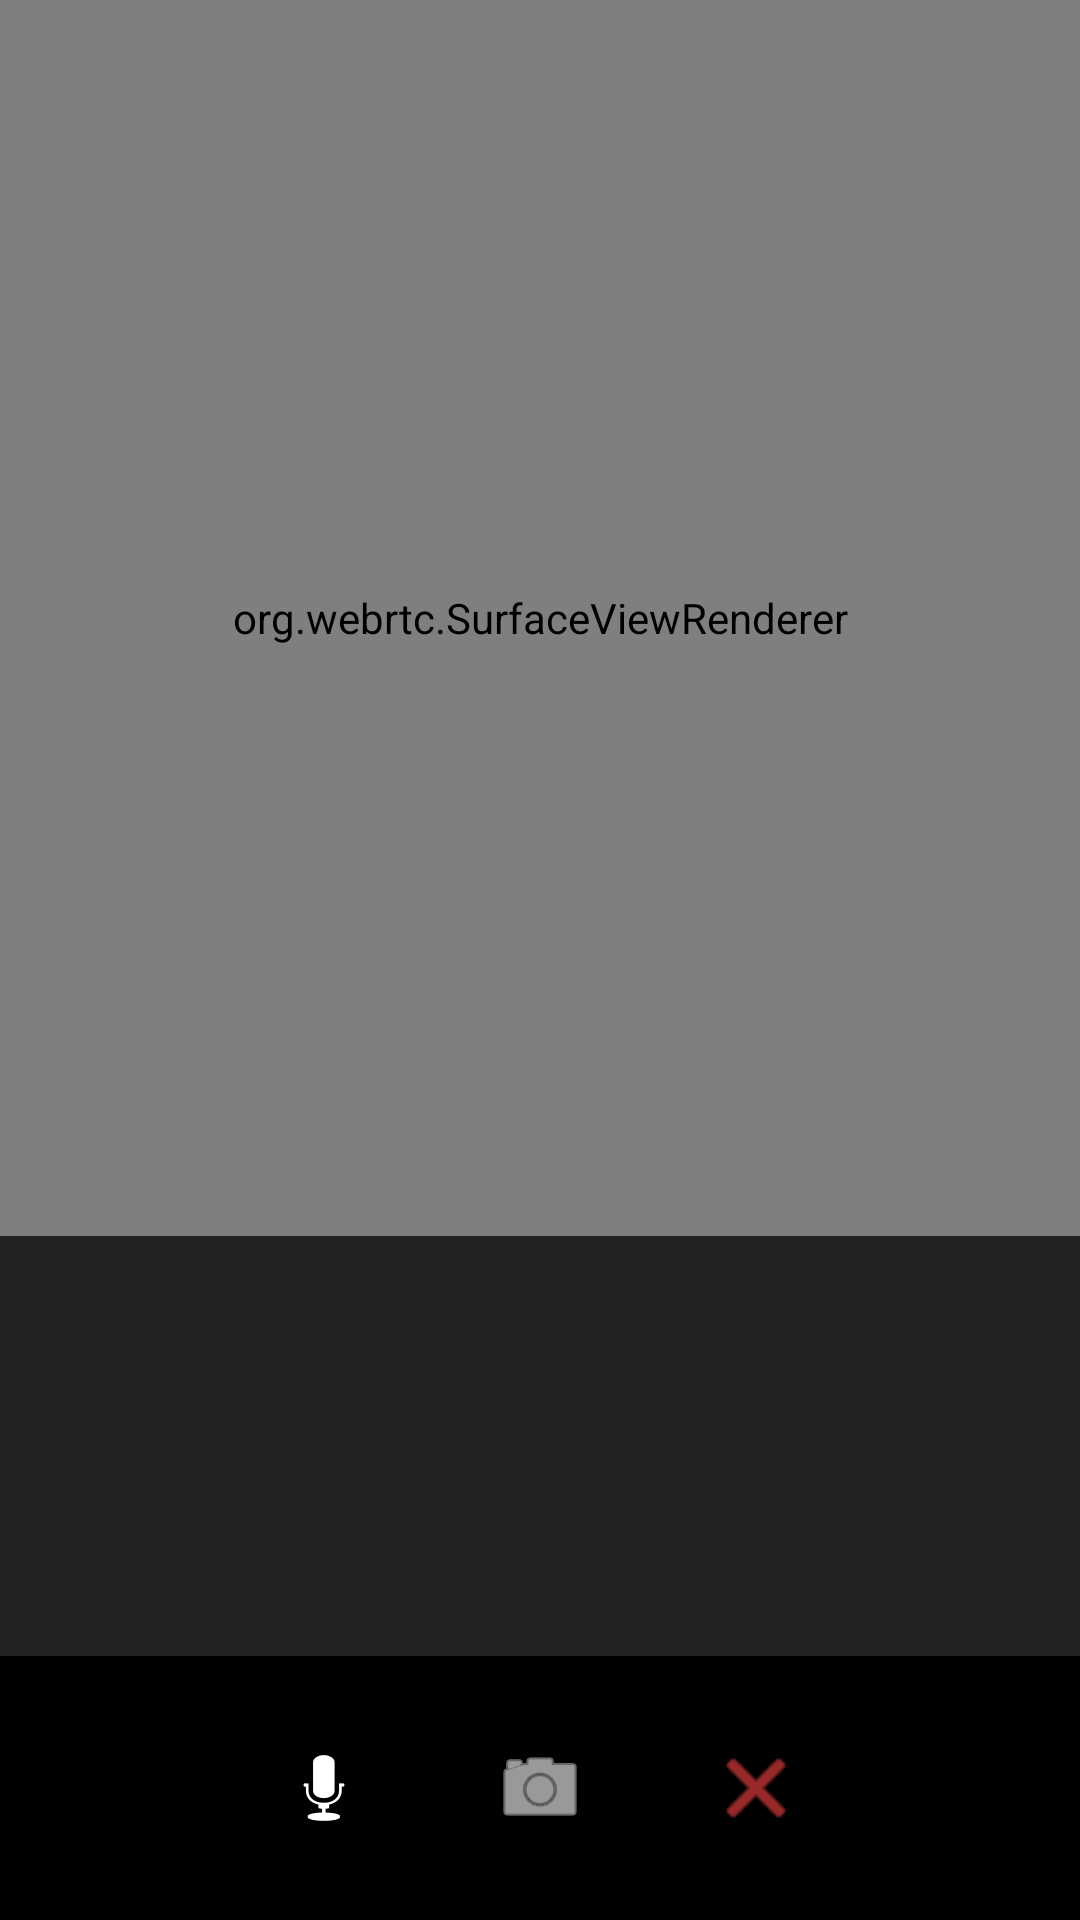

Screen size 1080w x 1920h. Icon name, then its center in pixels as [x,y]:
camera: [540,1786]
close clear cancel: [756,1788]
speak now: [324,1788]
